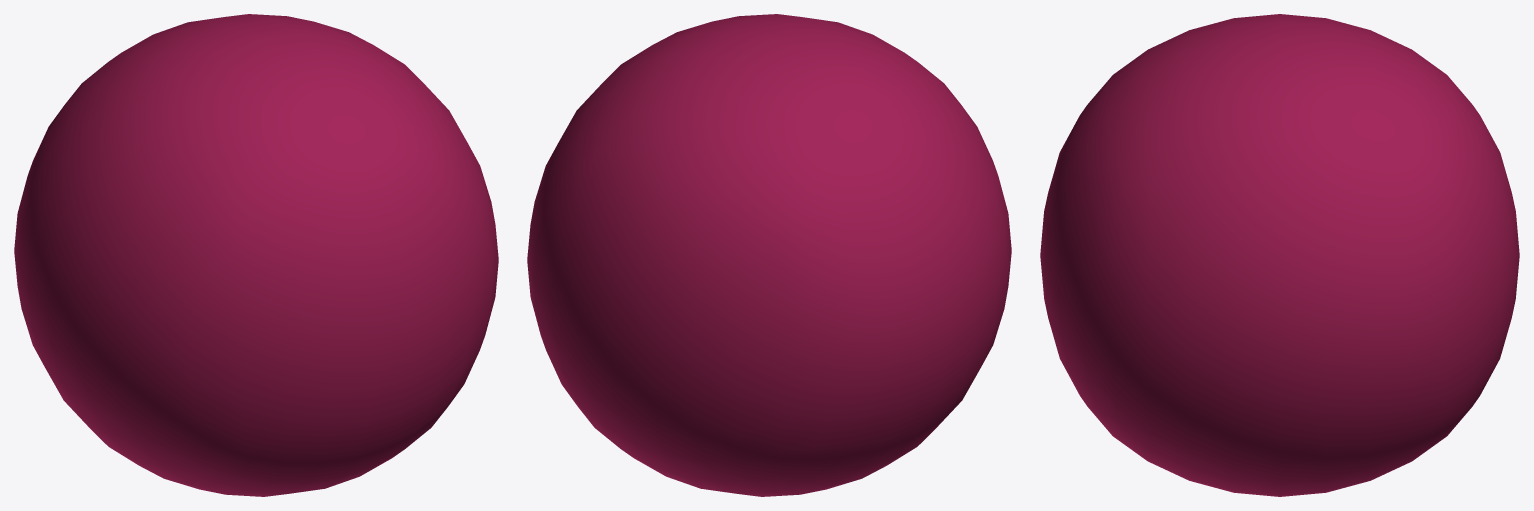
3 renders of one model, left to right at view 1: azimuth 30°, elevation 25°; view 2: azimuth 150°, elevation 25°; view 3: azimuth 270°, elevation 25°, orthographic.
Parts seen in each view (by area): view 1: Pink_ball; view 2: Pink_ball; view 3: Pink_ball.
Part boxes in pixels (x1,y1,x2,y2): Pink_ball: [14, 14, 498, 496]; Pink_ball: [527, 14, 1011, 496]; Pink_ball: [1040, 14, 1519, 496].
Bounding box in the file's own units: 4.48 × 4.45 × 4.47.
